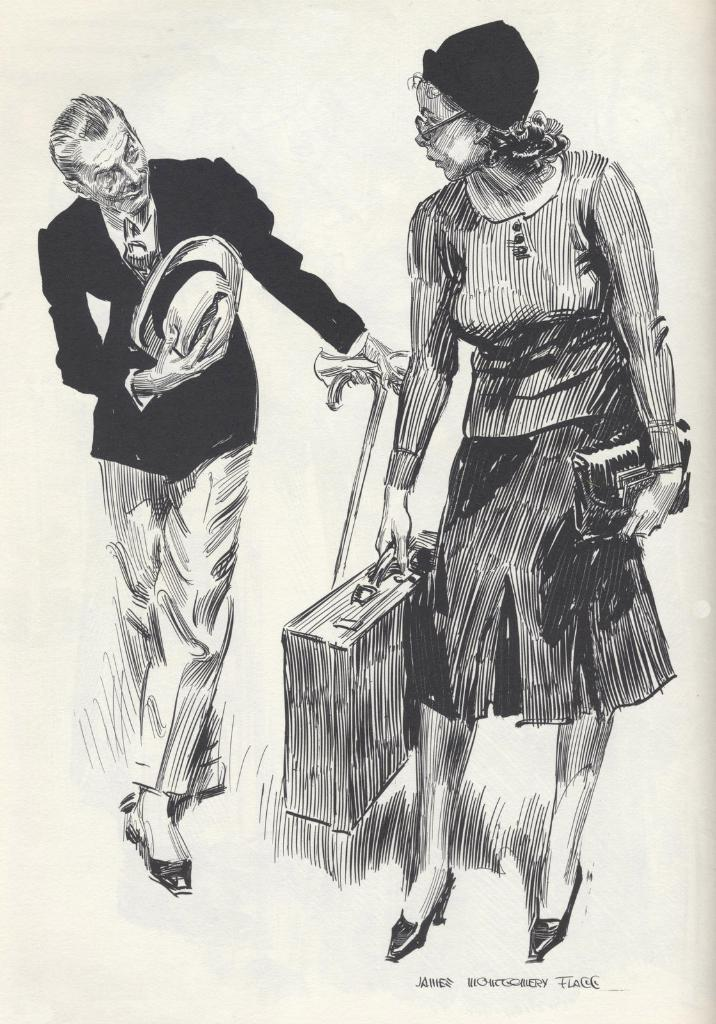Human_hand: (144, 317, 231, 398), (612, 465, 682, 543), (369, 499, 410, 575), (345, 335, 390, 393)
